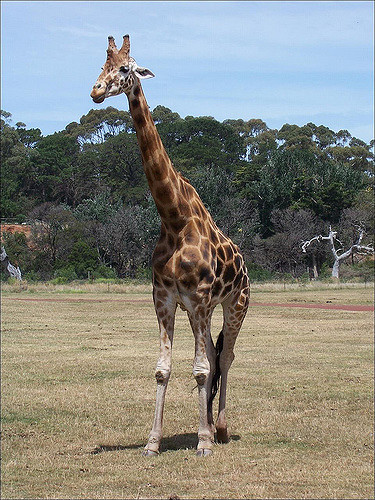giraffe: (87, 23, 277, 456)
